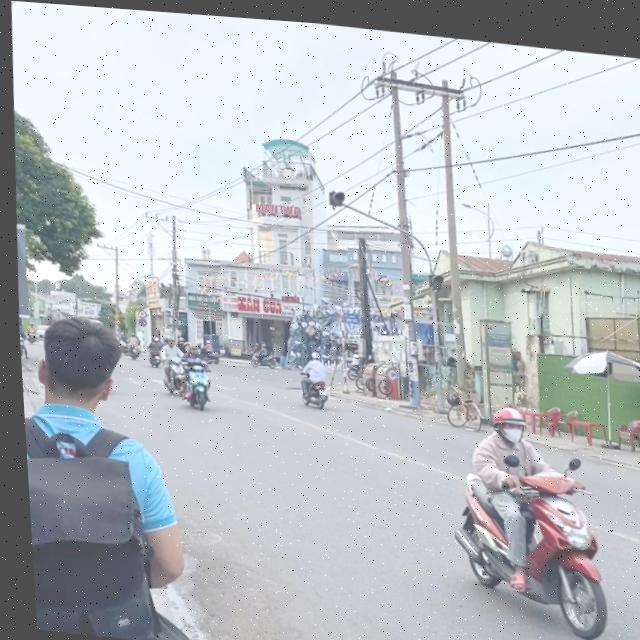motorcycle: (453, 454, 617, 638), (176, 354, 220, 414), (155, 350, 196, 403), (293, 368, 335, 413), (440, 391, 483, 432), (634, 416, 640, 458)
